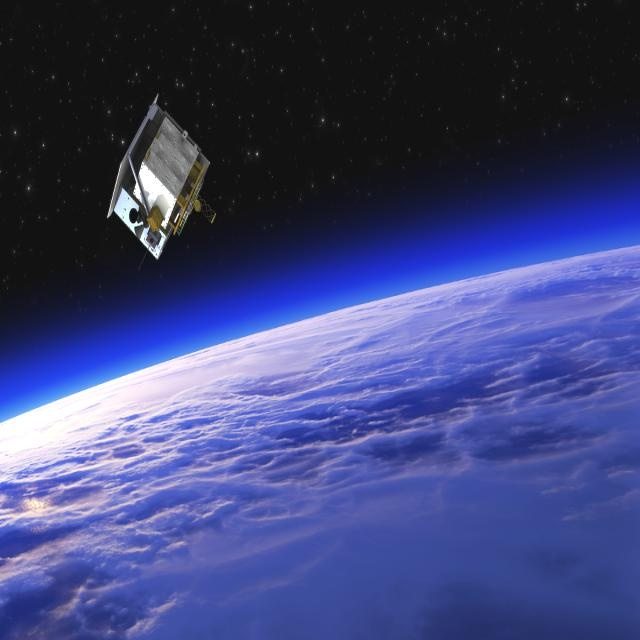medium_debris: (100, 89, 220, 279)
